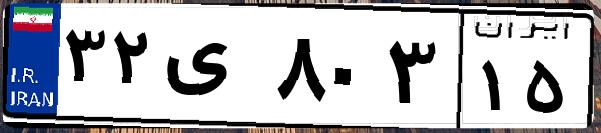0: (330, 28, 385, 110)
1: (475, 38, 525, 113)
2: (110, 28, 158, 98)
3: (385, 28, 445, 110), (57, 26, 110, 100)
5: (525, 38, 570, 115)
8: (270, 28, 330, 110)
ی: (158, 20, 270, 120)
